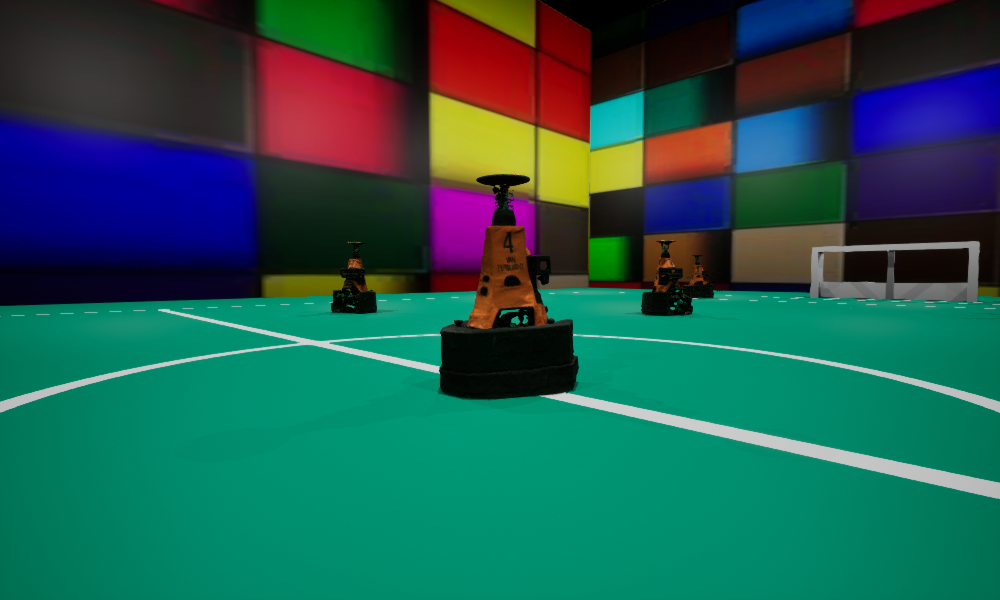o: (439, 174, 578, 399), (641, 240, 692, 315), (331, 242, 376, 312), (683, 255, 713, 297)
